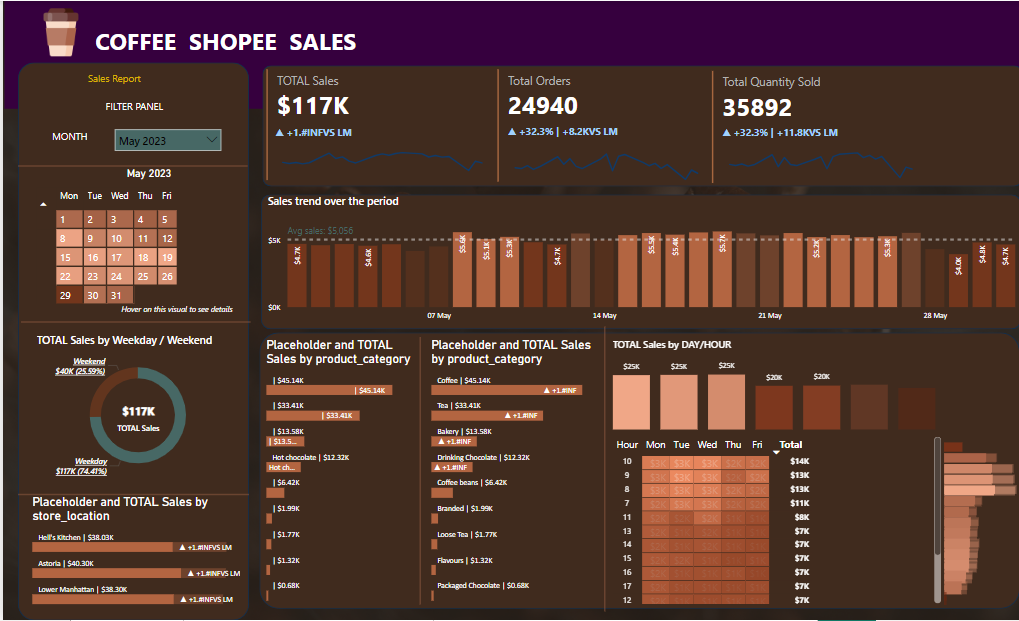

This screenshot's page, from the dashboard's own definition file:
{"tool":"powerbi","page":{"name":"Page 1","canvas":[1400,850],"ordinal":0},"visuals":[{"type":"shape","box":[353,454.4,1044.1,379.3],"z":0},{"type":"shape","box":[2.1,0,1398.6,148.3],"z":1000},{"type":"shape","box":[356,88,1044,166],"z":2000},{"type":"shape","box":[20.6,84.5,317.2,766.3],"z":3000},{"type":"textbox","box":[121.7,26.1,445.7,63],"z":4000},{"type":"cardVisual","fields":{"Data":["Transactions.TOTAL Sales"]},"box":[357.1,87.8,315.8,162.7],"z":4000,"group":"g1"},{"type":"cardVisual","fields":{"Data":["Transactions.Total Orders"]},"box":[673.5,87.8,292.3,164.4],"z":4000,"group":"g2"},{"type":"cardVisual","fields":{"Data":["Transactions.Total Quantity Sold"]},"box":[967.3,89.8,292.3,164.4],"z":4000,"group":"g3"},{"type":"slicer","fields":{"Values":["Date Table.Month Year"]},"box":[148.3,171,156.5,41.2],"z":5000},{"type":"group","id":"g1","title":"Group 1","box":[357.1,87.8,316.3,163.3],"z":6000},{"type":"group","id":"g2","title":"Group 1","box":[673.5,87.8,293.9,163.3],"z":7000},{"type":"group","id":"g3","title":"Group 1","box":[967.3,89.8,293.9,163.3],"z":8000},{"type":"pivotTable","fields":{"Values":["Min(Date Table.DAY NUMBER)"],"Columns":["Date Table.DAY NAME"],"Rows":["Date Table.WEEK NUMBER"]},"box":[41.2,251.3,276,175.1],"z":9000},{"type":"lineChart","fields":{"Category":["Date Table.Date.Variation.Date Hierarchy.Year","Date Table.Date.Variation.Date Hierarchy.Quarter","Date Table.Date.Variation.Date Hierarchy.Month","Date Table.Date.Variation.Date Hierarchy.Day"],"Y":["Transactions.Total Orders","Transactions.PM Sales"]},"box":[688.3,168.8,280.6,82.4],"z":9001,"group":"g2"},{"type":"lineChart","fields":{"Y":["Transactions.TOTAL Sales"],"Category":["Date Table.Date.Variation.Date Hierarchy.Year","Date Table.Date.Variation.Date Hierarchy.Quarter","Date Table.Date.Variation.Date Hierarchy.Month","Date Table.Date.Variation.Date Hierarchy.Day"]},"box":[369.2,169.2,303.7,81.4],"z":9001,"group":"g1"},{"type":"lineChart","fields":{"Category":["Date Table.Date.Variation.Date Hierarchy.Year","Date Table.Date.Variation.Date Hierarchy.Quarter","Date Table.Date.Variation.Date Hierarchy.Month","Date Table.Date.Variation.Date Hierarchy.Day"],"Y":["Transactions.Total Quantity Sold"]},"box":[982.1,170.8,280.6,82.4],"z":9001,"group":"g3"},{"type":"card","fields":{"Values":["Min(Date Table.Month Year)"]},"box":[95.1,221.2,210.8,33.1],"z":10000},{"type":"card","fields":{"Values":["Date Table.Foot Note"]},"box":[72.3,403.1,332.8,43.4],"z":11000},{"type":"shape","box":[20.6,661.2,317.2,33],"z":12000},{"type":"donutChart","fields":{"Category":["Date Table.Weekday / Weekend"],"Y":["Transactions.TOTAL Sales"]},"box":[41.3,454.7,287.3,206.7],"z":13000},{"type":"card","fields":{"Values":["Transactions.TOTAL Sales"]},"box":[146.8,539.5,78.5,64.1],"z":14000},{"type":"shape","box":[24.7,426.4,315.2,28.8],"z":15000},{"type":"clusteredBarChart","fields":{"Category":["Transactions.store_location"],"Y":["Transactions.Placeholder","Transactions.TOTAL Sales"]},"box":[35.1,678,301.8,157.1],"z":16000},{"type":"shape","box":[353.4,266.6,1043.8,185],"z":17000},{"type":"columnChart","title":"Sales trend over the period","fields":{"Category":["Transactions.transaction_date"],"Y":["Transactions.TOTAL Sales"]},"box":[358.4,263.7,1040.2,183.3],"z":18000},{"type":"clusteredBarChart","fields":{"Y":["Transactions.Placeholder","Transactions.TOTAL Sales"],"Category":["Transactions.product_category"]},"box":[582.6,460.9,245.7,367.4],"z":19000},{"type":"shape","box":[819.6,447.8,13,391.3],"z":20000},{"type":"clusteredBarChart","fields":{"Y":["Transactions.Placeholder","Transactions.TOTAL Sales"],"Category":["Transactions.product_category"]},"box":[356.5,460.9,210.9,367.4],"z":21000},{"type":"shape","box":[567.4,460.9,13,367.4],"z":22000},{"type":"pivotTable","fields":{"Rows":["Transactions.Hour"],"Columns":["Date Table.DAY NAME"],"Values":["Transactions.TOTAL Sales"]},"box":[832.6,593.5,460.9,239.1],"z":23000},{"type":"barChart","fields":{"Category":["Transactions.Hour"],"Y":["Transactions.TOTAL Sales"]},"box":[1287,593.5,108.7,241.3],"z":24000},{"type":"columnChart","title":"TOTAL Sales by DAY/HOUR","fields":{"Y":["Transactions.TOTAL Sales"],"Category":["Date Table.DAY NAME"]},"box":[832.6,460.9,454.3,132.6],"z":25000},{"type":"barChart","fields":{"Category":["Transactions.Hour"],"Y":["Transactions.TOTAL Sales"]},"box":[1287,593.5,110.9,234.8],"z":26000},{"type":"textbox","box":[28.8,171,125.6,39.1],"z":27000},{"type":"textbox","box":[111.2,90.6,158.6,47.4],"z":28000},{"type":"textbox","box":[111.2,129.8,138,37.1],"z":29000},{"type":"image","box":[41.2,0,76.2,86.5],"z":30000},{"type":"shape","box":[20.6,212.2,315.2,28.8],"z":31000}]}

Visuals, with their boxes in screenshot pixels (x1, y1, x2, y2), scaled from the page's 1400x850 canvas onto the 1019x621 screenshot:
shape: 257, 332, 1017, 609
shape: 2, 0, 1018, 108
shape: 259, 64, 1018, 186
shape: 15, 62, 246, 620
textbox: 89, 19, 413, 65
cardVisual - Transactions.TOTAL Sales: 260, 64, 490, 183
cardVisual - Transactions.Total Orders: 490, 64, 703, 184
cardVisual - Transactions.Total Quantity Sold: 704, 66, 917, 186
slicer - Date Table.Month Year: 108, 125, 222, 155
"Group 1" group: 260, 64, 490, 183
"Group 1" group: 490, 64, 704, 183
"Group 1" group: 704, 66, 918, 185
pivotTable - Min(Date Table.DAY NUMBER) x Date Table.DAY NAME: 30, 184, 231, 312
lineChart - Date Table.Date.Variation.Date Hierarchy.Year x Date Table.Date.Variation.Date Hierarchy.Quarter: 501, 123, 705, 184
lineChart - Transactions.TOTAL Sales x Date Table.Date.Variation.Date Hierarchy.Year: 269, 124, 490, 183
lineChart - Date Table.Date.Variation.Date Hierarchy.Year x Date Table.Date.Variation.Date Hierarchy.Quarter: 715, 125, 919, 185
card - Min(Date Table.Month Year): 69, 162, 223, 186
card - Date Table.Foot Note: 53, 295, 295, 326
shape: 15, 483, 246, 507
donutChart - Date Table.Weekday / Weekend x Transactions.TOTAL Sales: 30, 332, 239, 483
card - Transactions.TOTAL Sales: 107, 394, 164, 441
shape: 18, 312, 247, 333
clusteredBarChart - Transactions.store_location x Transactions.Placeholder: 26, 495, 245, 610
shape: 257, 195, 1017, 330
"Sales trend over the period" columnChart: 261, 193, 1018, 327
clusteredBarChart - Transactions.Placeholder x Transactions.TOTAL Sales: 424, 337, 603, 605
shape: 597, 327, 606, 613
clusteredBarChart - Transactions.Placeholder x Transactions.TOTAL Sales: 259, 337, 413, 605
shape: 413, 337, 422, 605
pivotTable - Transactions.Hour x Date Table.DAY NAME: 606, 434, 941, 608
barChart - Transactions.Hour x Transactions.TOTAL Sales: 937, 434, 1016, 610
"TOTAL Sales by DAY/HOUR" columnChart: 606, 337, 937, 434
barChart - Transactions.Hour x Transactions.TOTAL Sales: 937, 434, 1017, 605
textbox: 21, 125, 112, 153
textbox: 81, 66, 196, 101
textbox: 81, 95, 181, 122
image: 30, 0, 85, 63
shape: 15, 155, 244, 176
